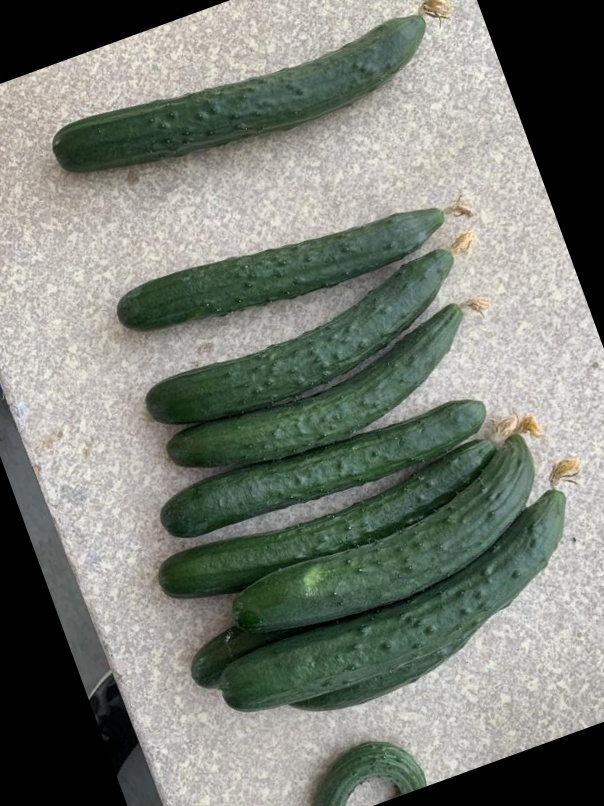mature: (228, 492, 567, 714), (56, 16, 436, 176), (228, 451, 536, 633), (152, 440, 500, 598), (150, 254, 450, 424), (169, 312, 468, 468), (162, 395, 487, 537), (115, 206, 451, 331)
